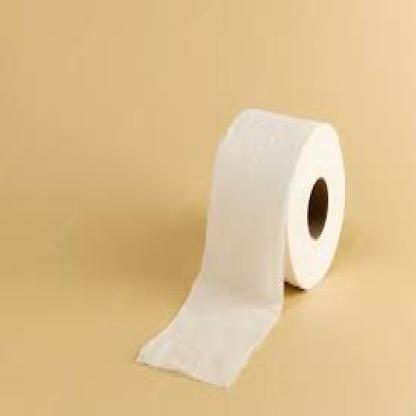tissue: (130, 92, 357, 392)
